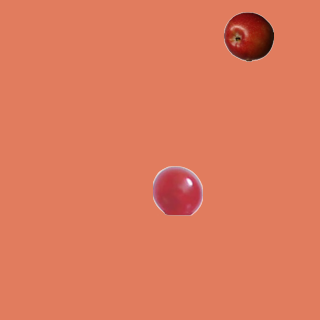Apple Braeburn: (223, 11, 273, 61)
Redcurrant: (152, 165, 202, 215)
